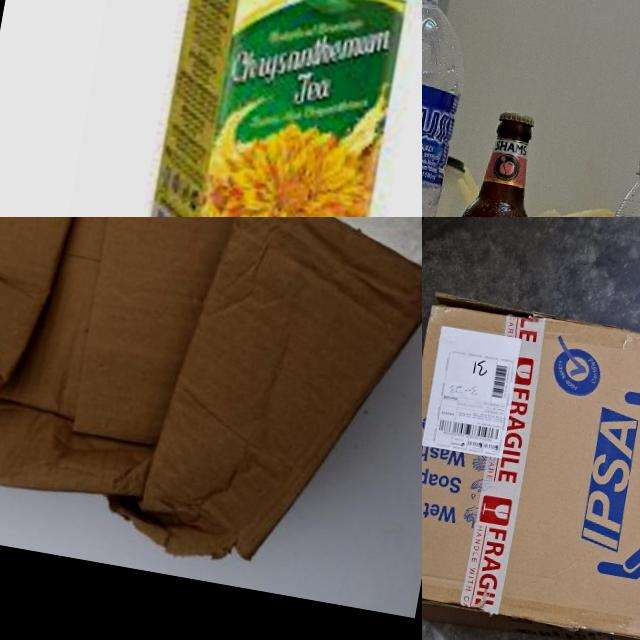caixinha: (126, 0, 422, 217)
garrafa de vidro: (441, 101, 555, 217)
garrafa plástica: (422, 0, 485, 217)
papelão: (0, 217, 422, 592), (422, 217, 640, 640)
